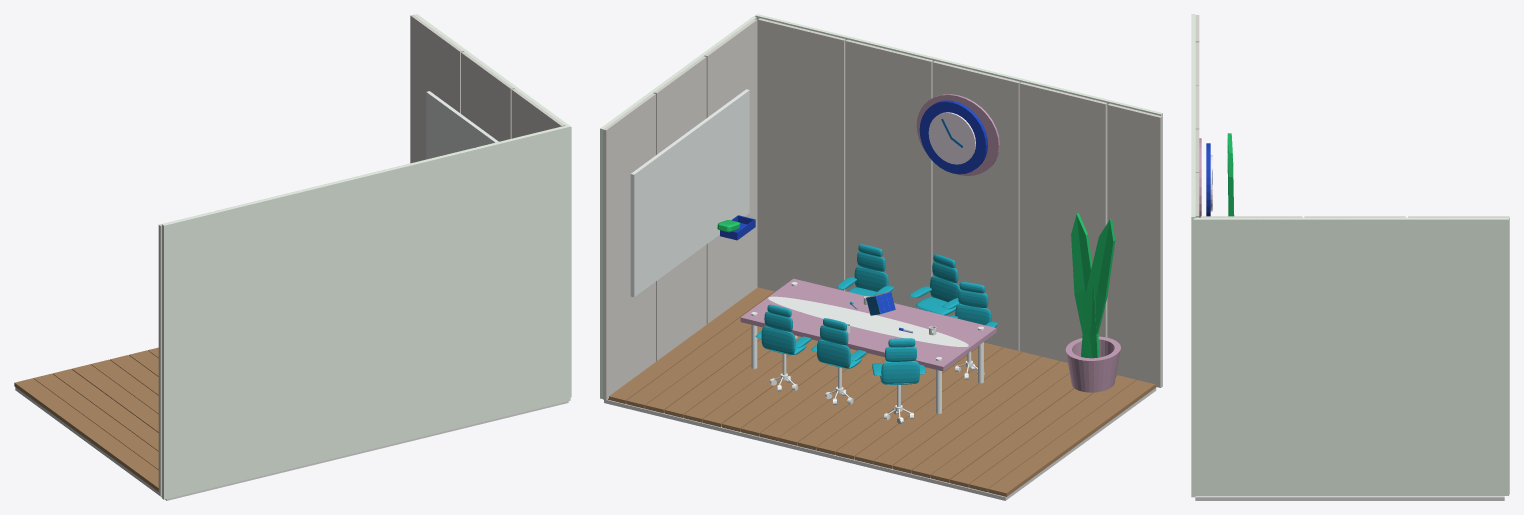
The model's file is pieza1.fbx.
3 views of the same model, side by side, from view 1: azimuth 30°, elevation 25°; view 2: azimuth 150°, elevation 25°; view 3: azimuth 270°, elevation 25° (orthographic). The views are drawn at different scales.
Visible parts, largest first — view 1: Cube.001, Cube.002, Cube.016, Cube.015, Cube.019, Cube.007, Cube.018, Cube.008; view 2: Cube.002, Cube.005, Cube.006, Cube.003, Cube.004, Cube.019, Cube.008, Cube.016, Cube.015, Cube.014, Cylinder.003, Cube.010 (+19 smaller); view 3: Cube.018, Cube.001, Cube.007, Cube.002, Plane.003, Cylinder.
Boxes of the visible parts, x1,y1,x2,y2 form: Cube.001: [162, 125, 570, 499]; Cube.002: [410, 14, 564, 163]; Cube.016: [14, 369, 158, 491]; Cube.015: [71, 355, 158, 432]; Cube.019: [426, 91, 498, 159]; Cube.007: [15, 387, 568, 500]; Cube.018: [414, 14, 571, 397]; Cube.008: [158, 212, 211, 496]; Cube.002: [603, 19, 757, 400]; Cube.005: [758, 18, 845, 291]; Cube.006: [1019, 82, 1107, 362]; Cube.003: [845, 39, 933, 310]; Cube.004: [932, 61, 1020, 350]; Cube.019: [630, 89, 749, 297]; Cube.008: [1107, 103, 1162, 387]; Cube.016: [950, 375, 1156, 496]; Cube.015: [893, 356, 1074, 482]; Cube.014: [835, 343, 1040, 468]; Cylinder.003: [740, 278, 996, 371]; Cube.010: [608, 286, 775, 413]; Cube.018: [1193, 217, 1508, 495]; Cube.001: [1191, 14, 1195, 497]; Cube.007: [1195, 496, 1504, 500]; Cube.002: [1200, 216, 1509, 494]; Plane.003: [1227, 153, 1233, 216]; Cylinder: [1206, 143, 1210, 216].
Bounding box in the file's own units: 363 × 235 × 239.
